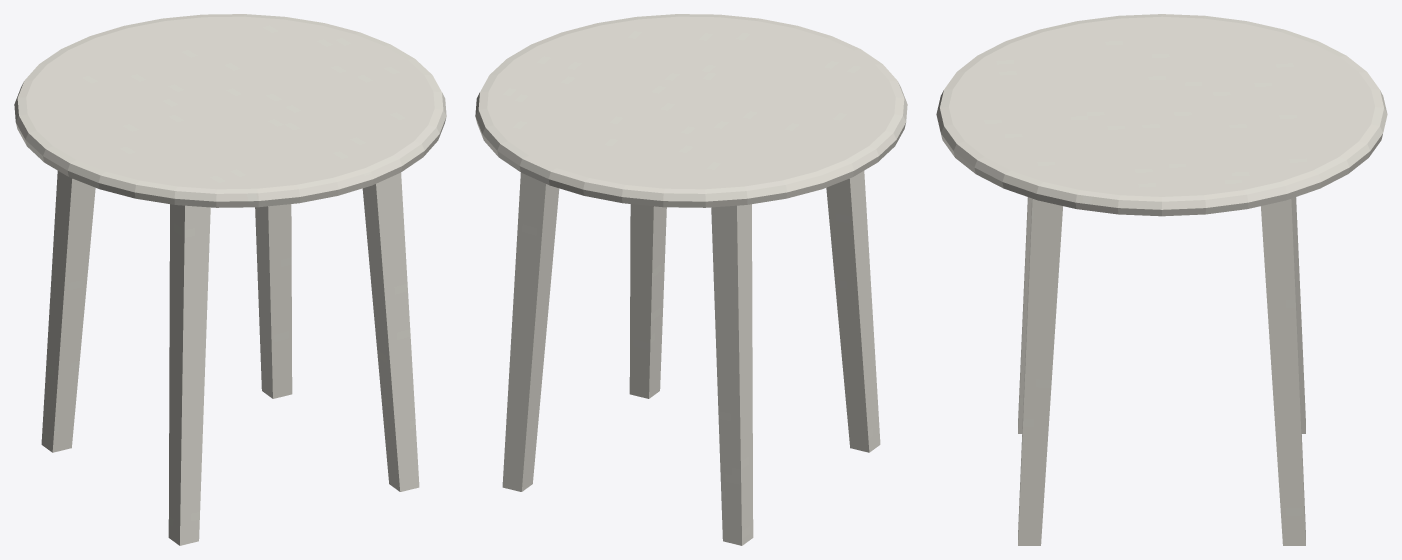
File: pool_table.glb
The picture shows the model from 3 angles, left to right: view 1: azimuth 30°, elevation 25°; view 2: azimuth 150°, elevation 25°; view 3: azimuth 270°, elevation 25°; orthographic projection. The views are drawn at different scales.
Parts seen in each view (by area): view 1: core_pool_table; view 2: core_pool_table; view 3: core_pool_table.
Part boxes in pixels (box(x1,y1,x2,y2)): core_pool_table: box(14, 14, 446, 545); core_pool_table: box(475, 14, 907, 545); core_pool_table: box(936, 14, 1387, 545).
Size of the model in its own units: 0.8 by 0.74 by 0.8.
Materials: 1 (1 with a texture image).
